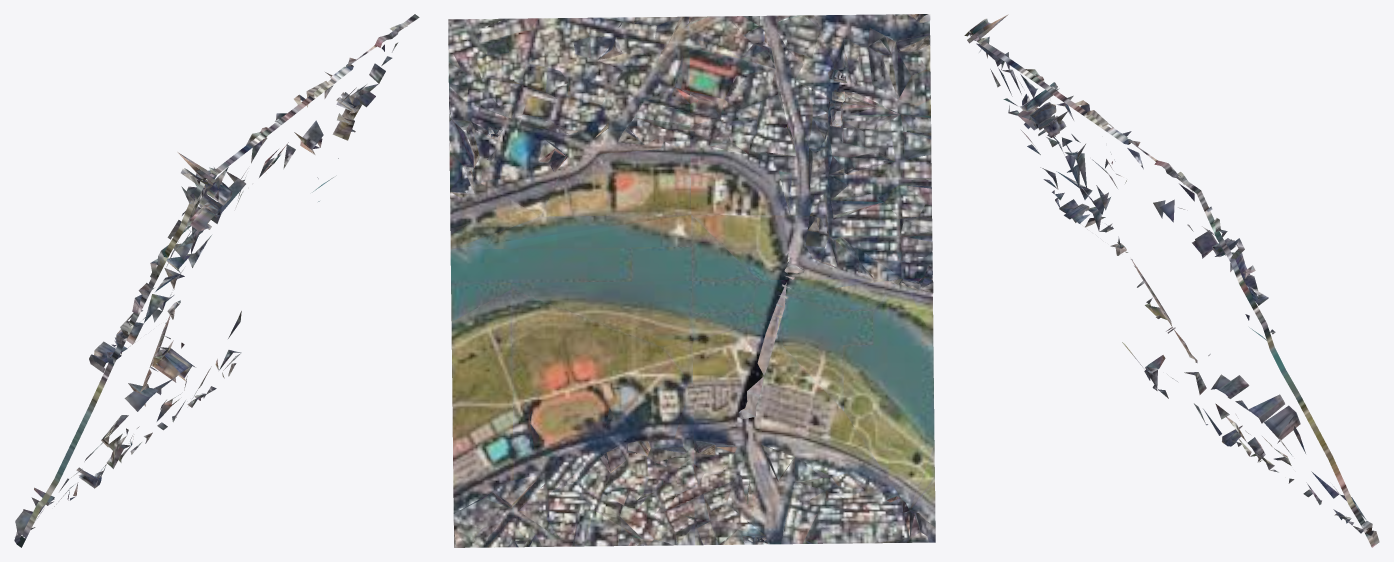
3 views of the same model, side by side, from view 1: azimuth 30°, elevation 25°; view 2: azimuth 150°, elevation 25°; view 3: azimuth 270°, elevation 25° (orthographic). The views are drawn at different scales.
Bounding box in the file's own units: 1226 × 1156 × 1039.
Materials: 1 (1 with a texture image).
